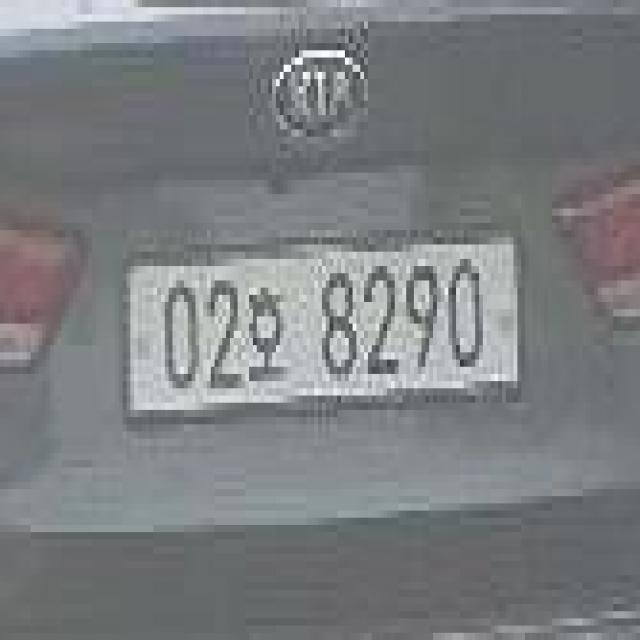illegal_plate: (116, 230, 532, 424)
